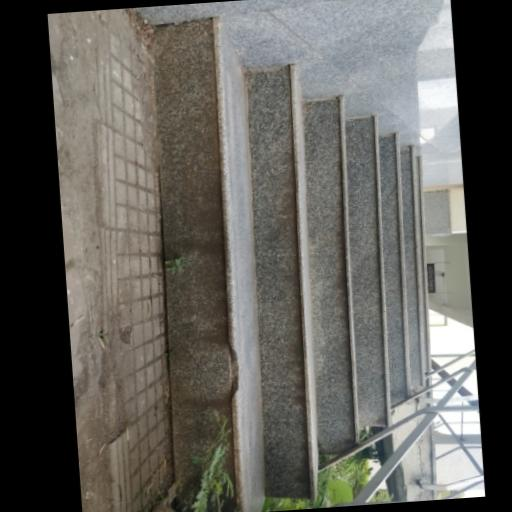stairs: (155, 18, 428, 511)
